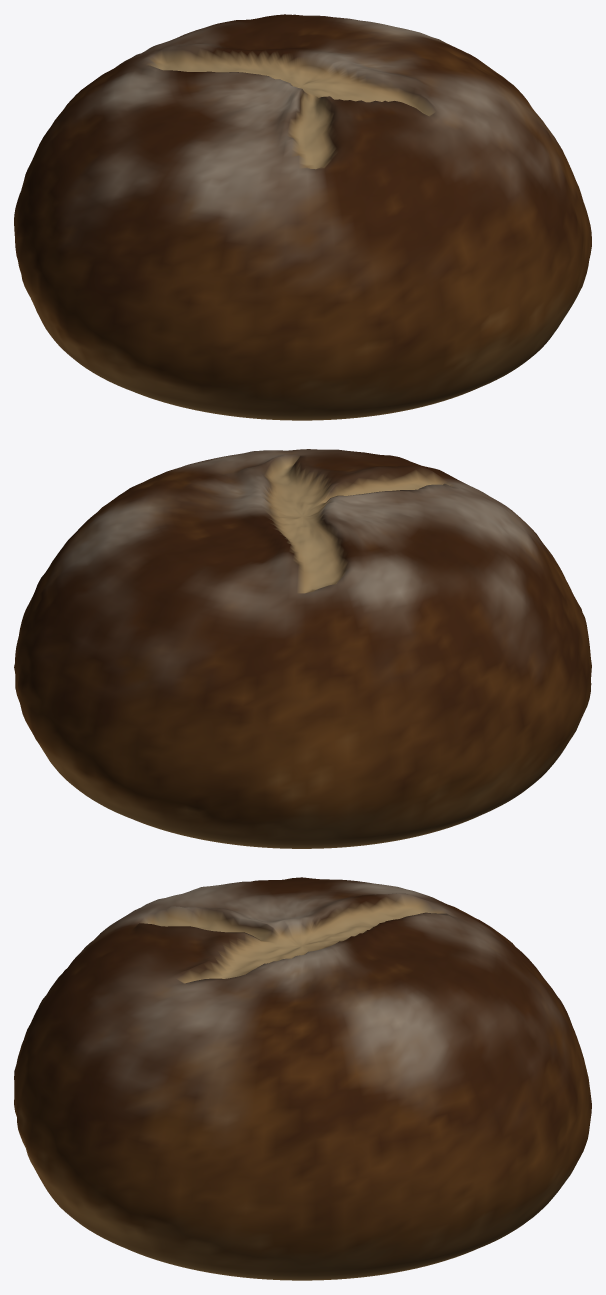
Rendered from holzluken-750g.glb.
3 renders of one model, top to bottom at view 1: azimuth 30°, elevation 25°; view 2: azimuth 150°, elevation 25°; view 3: azimuth 270°, elevation 25°, orthographic.
Parts seen in each view (by area): view 1: holzluken-750g; view 2: holzluken-750g; view 3: holzluken-750g.
Boxes of the visible parts, x1,y1,x2,y2 form: holzluken-750g: (14,14,591,420); holzluken-750g: (14,449,591,848); holzluken-750g: (14,877,591,1280).
Bounding box in the file's own units: 0.206 × 0.0973 × 0.206.
